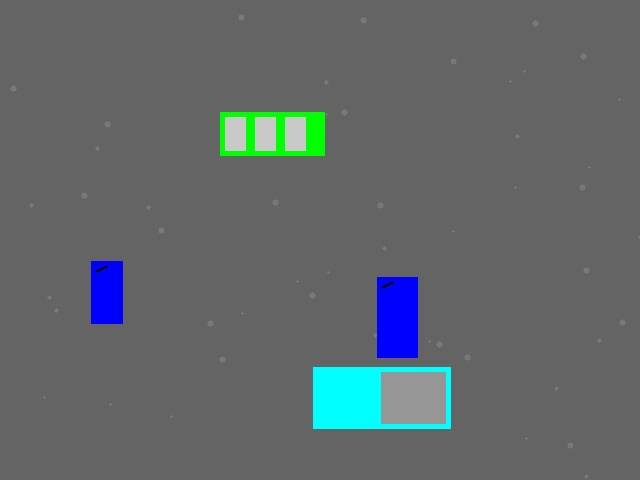bus: (220, 112, 324, 155)
motorcycle: (377, 277, 417, 357), (91, 261, 122, 323)
truck: (313, 367, 450, 428)
